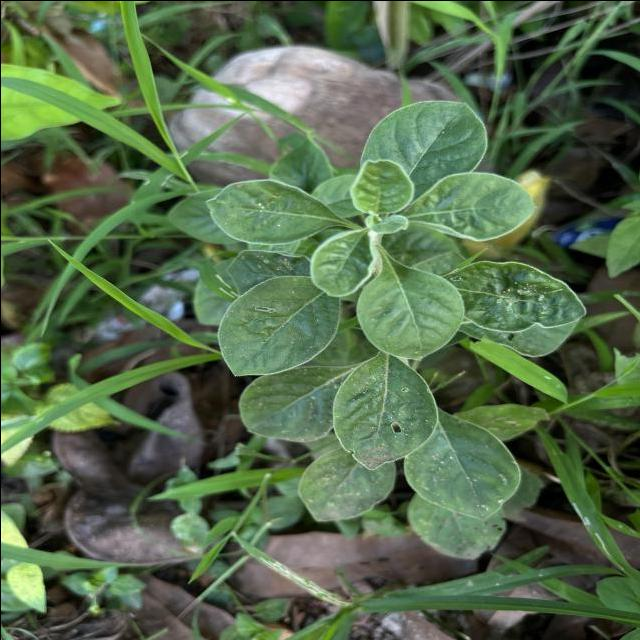Aerva lanata: (357, 97, 490, 208), (328, 351, 442, 472), (213, 272, 342, 378), (352, 257, 466, 362)
